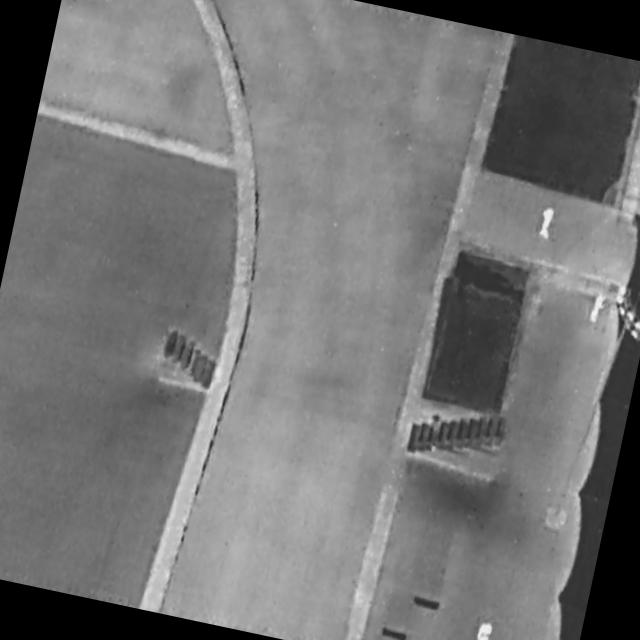person: (588, 292, 608, 327), (538, 207, 557, 240), (474, 618, 496, 640)
